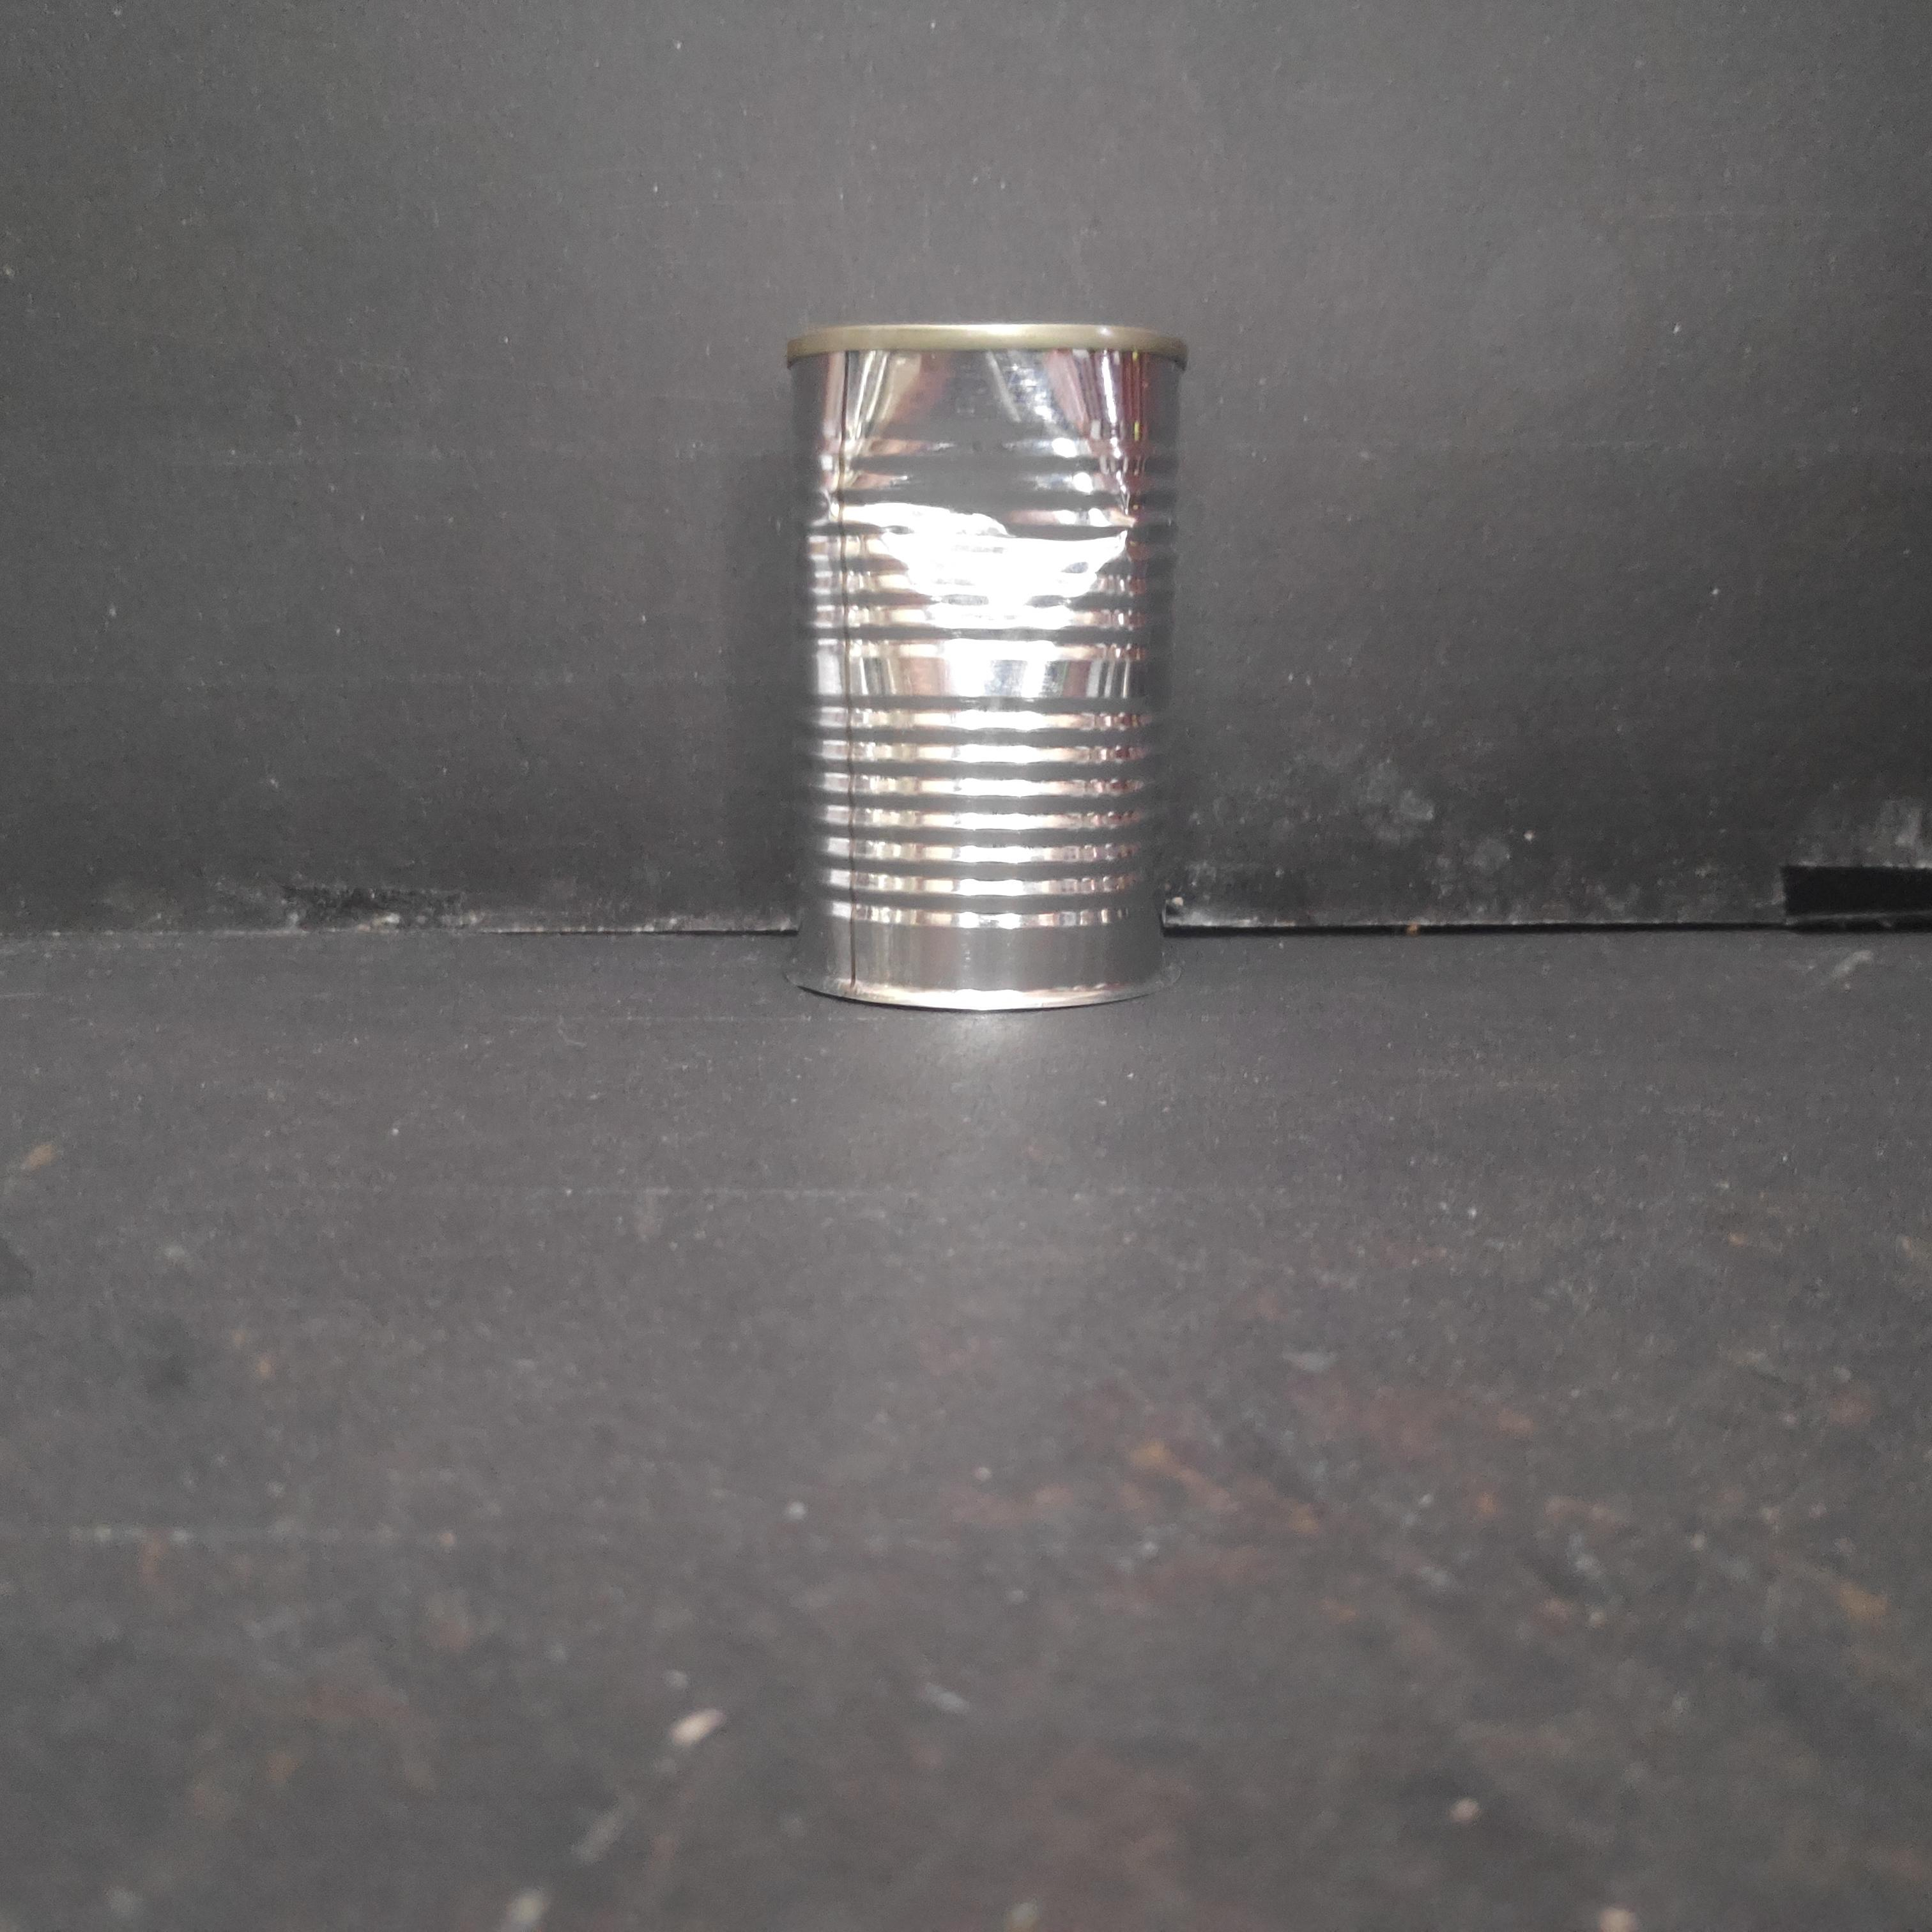Minor Defect: (761, 301, 1189, 1024)
